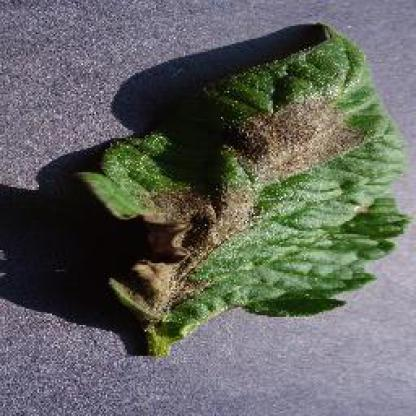bad leaf: (87, 95, 379, 334)
